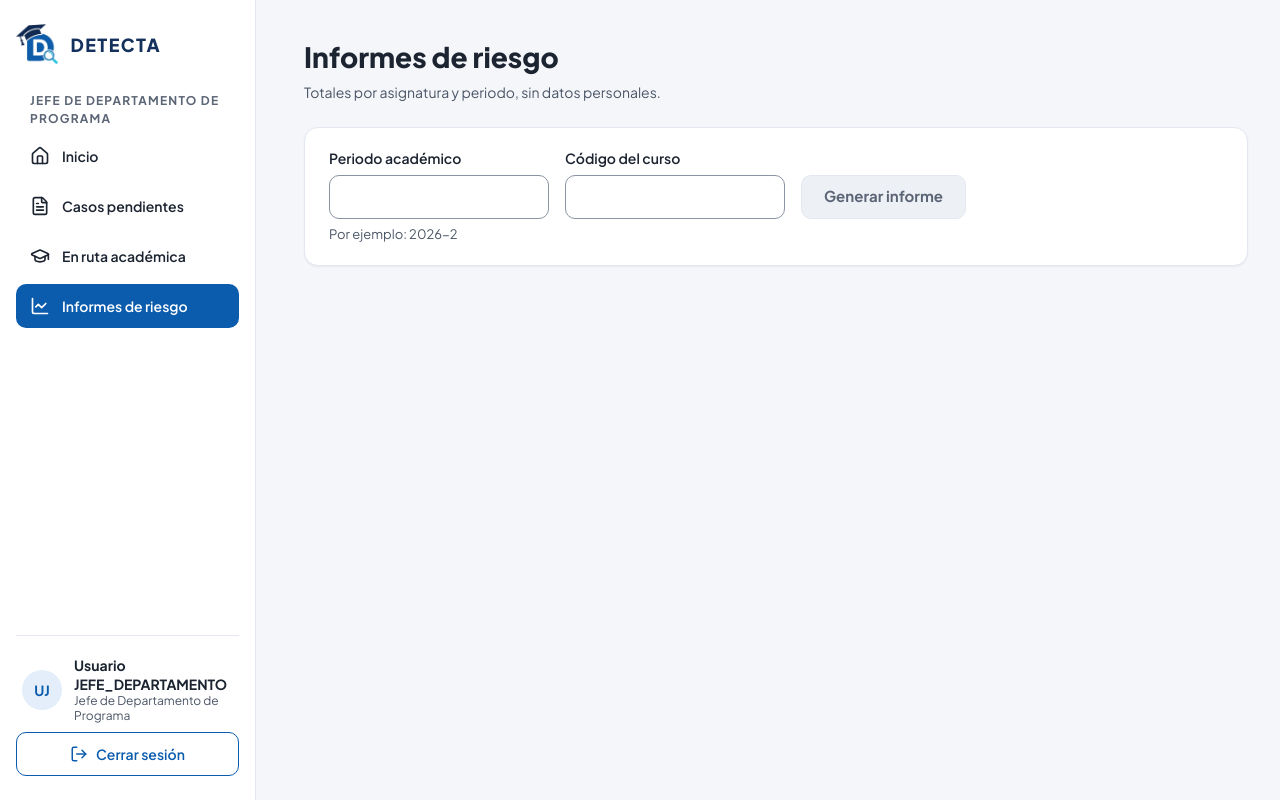
Test case: Informes de riesgo: resultado y exportación (CUD10) › error al generar: el texto del backend
Type "2026-2" into the field labelled "Periodo académico". click: (439, 197)
box: [329,175,549,219]
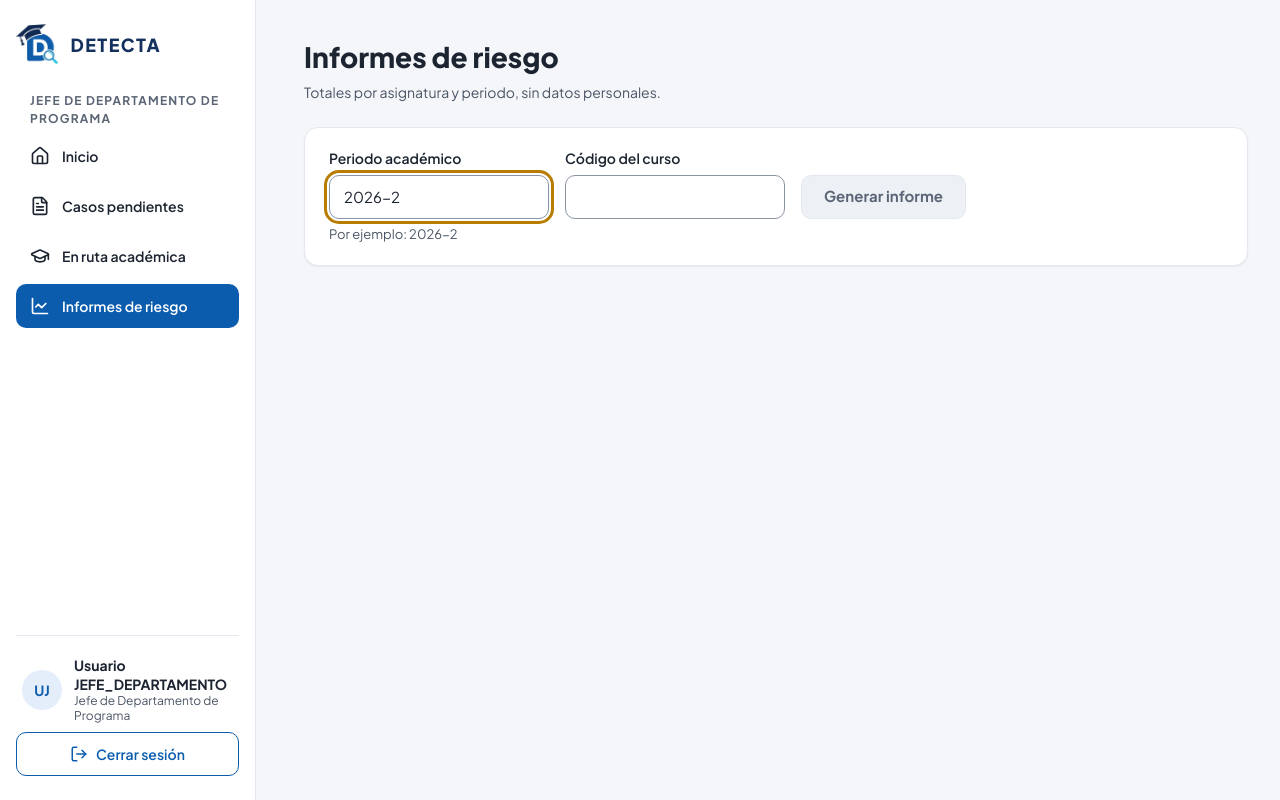
Type "MAT-201" into the field labelled "Código del curso". click: (675, 197)
box: [565,175,785,219]
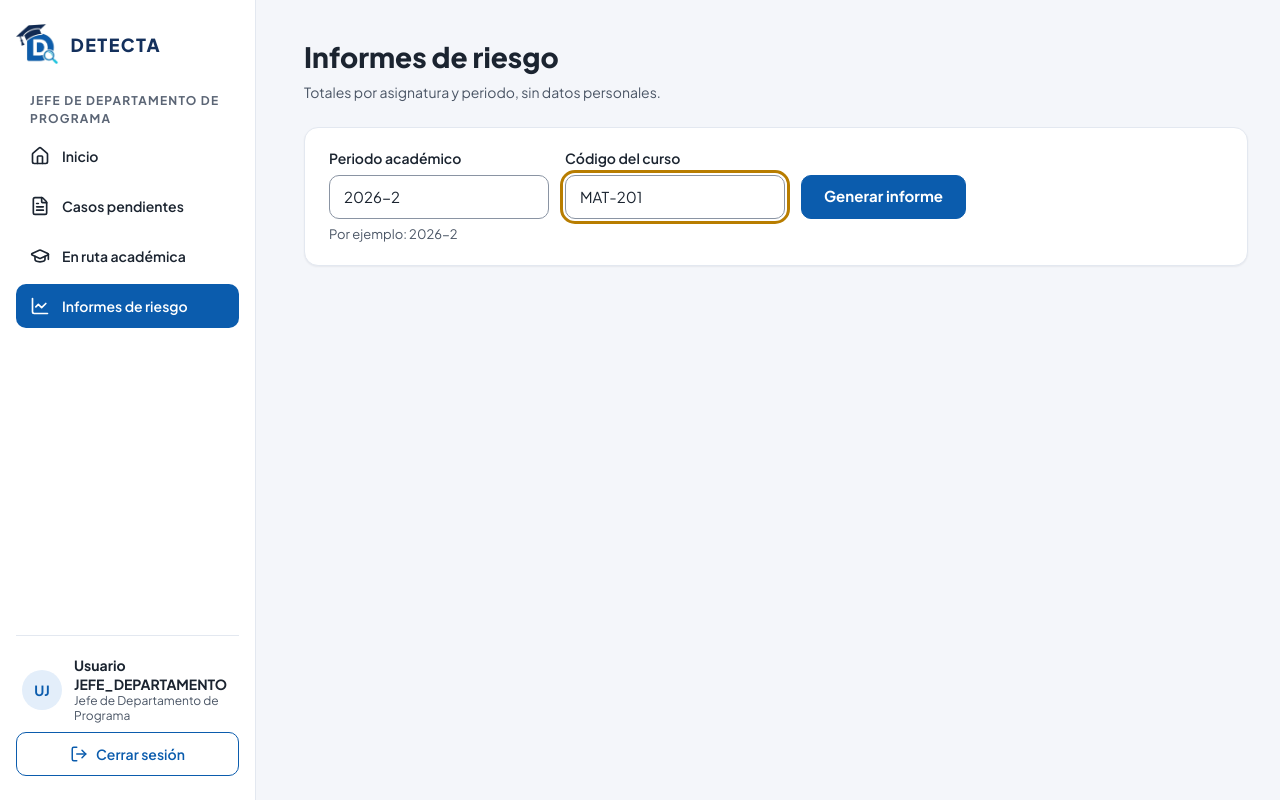
Click the button "Generar informe". click: (883, 197)
box: [801,175,966,219]
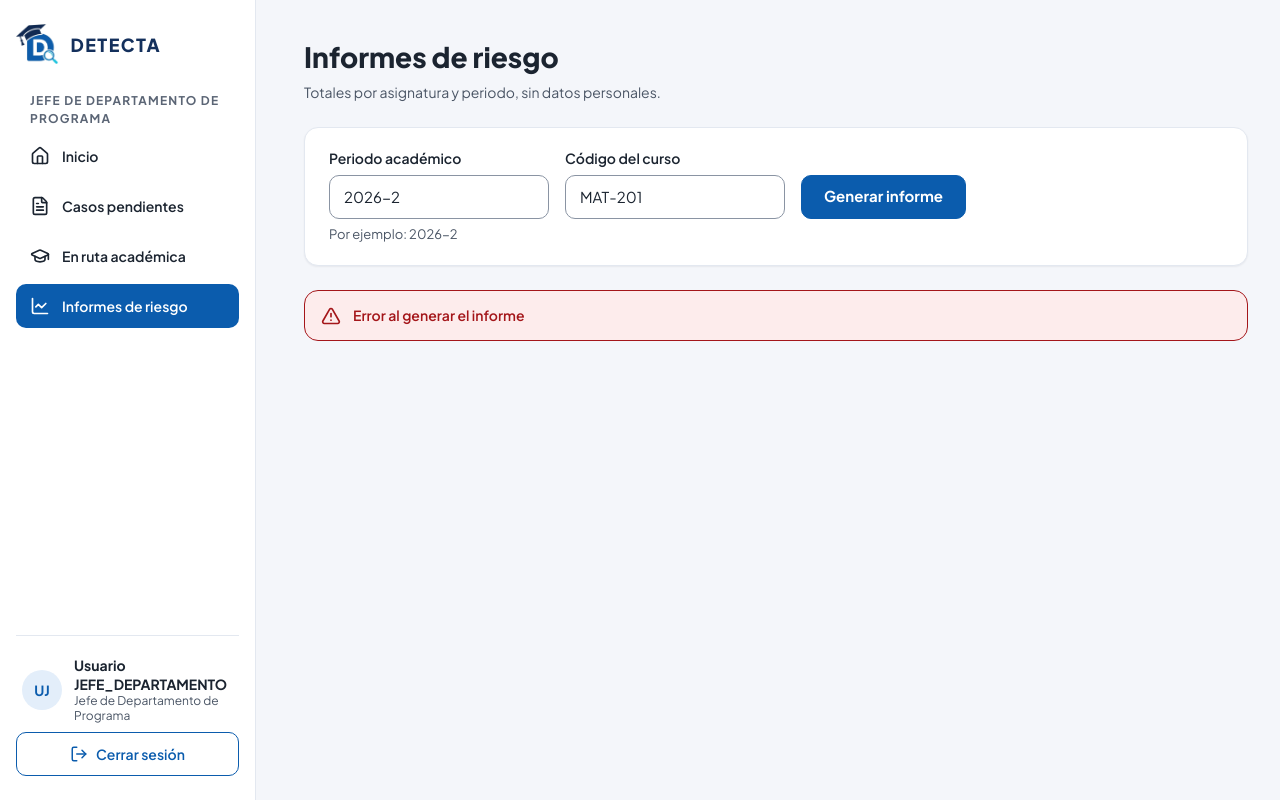
expect the message reads "Error al generar el informe": met, box [353,306,524,324]
